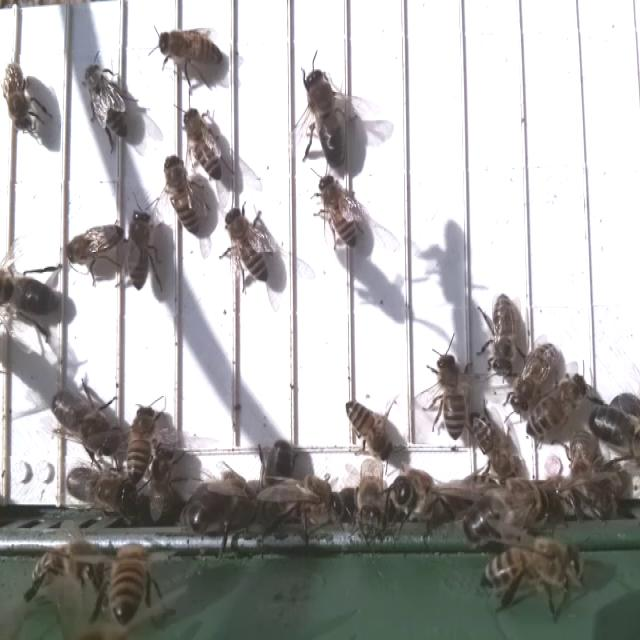Drone: (300, 62, 353, 174), (47, 383, 121, 456), (0, 265, 66, 327), (62, 463, 138, 516), (586, 399, 640, 456)
Worker: (221, 202, 275, 289), (523, 374, 588, 444), (82, 58, 130, 145), (314, 170, 362, 255), (466, 406, 517, 484), (510, 341, 560, 416), (181, 103, 228, 181), (432, 347, 469, 443), (162, 150, 202, 237), (342, 394, 393, 462), (157, 26, 228, 74), (123, 399, 158, 485), (487, 288, 519, 381), (61, 221, 124, 267), (1, 60, 36, 136), (126, 206, 155, 296)
